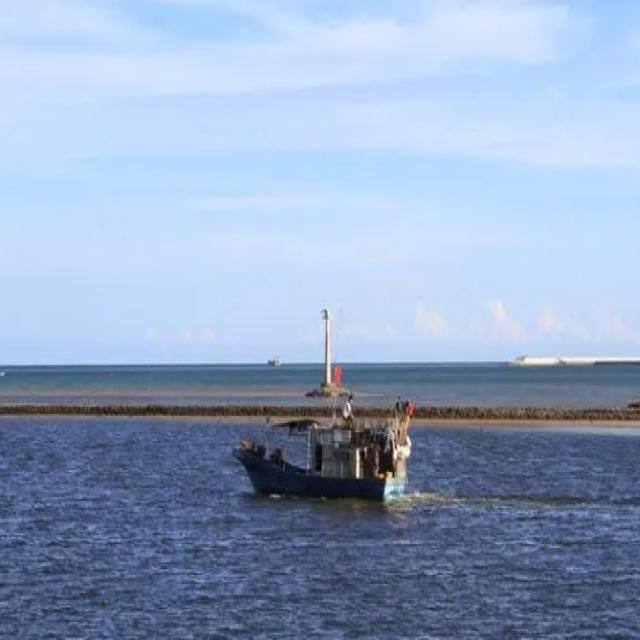fishing boat: (234, 391, 413, 501)
